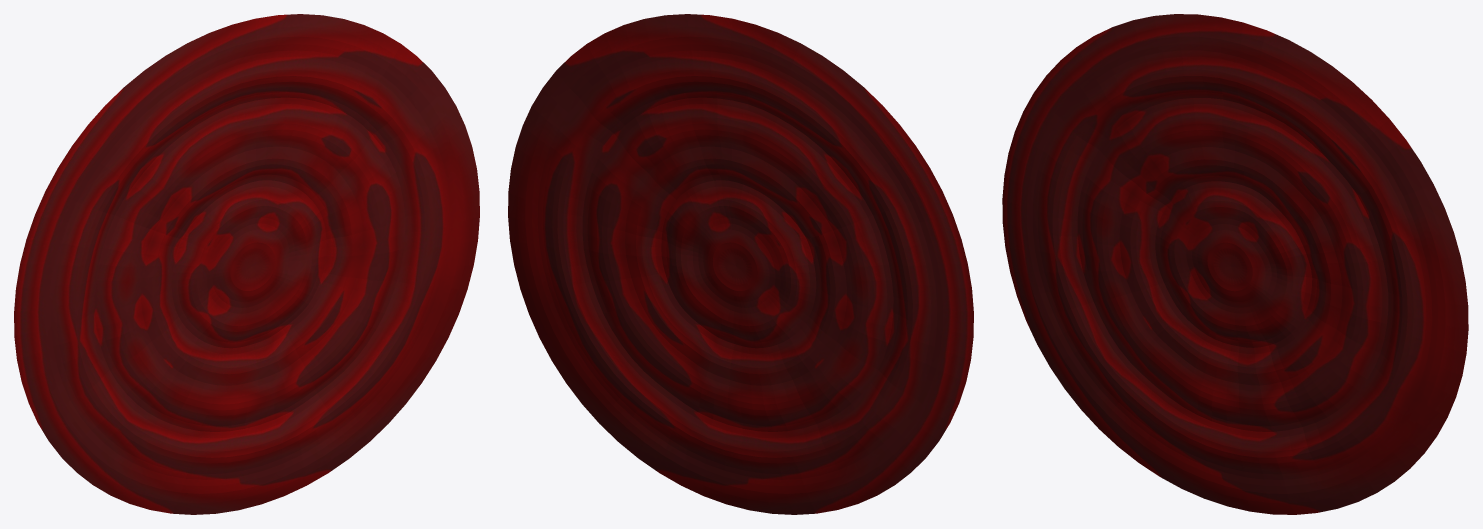
Rendered from Gate.obj.
3 renders of one model, left to right at view 1: azimuth 30°, elevation 25°; view 2: azimuth 150°, elevation 25°; view 3: azimuth 330°, elevation 25°, orthographic.
Parts seen in each view (by area): view 1: warpeff; view 2: warpeff; view 3: warpeff.
Part boxes in pixels (box(x1,y1,x2,y2)): warpeff: box(14, 14, 479, 514); warpeff: box(508, 14, 973, 514); warpeff: box(1002, 14, 1468, 514).
Size of the model in its own units: 5.12 by 5.12 by 0.2377.
